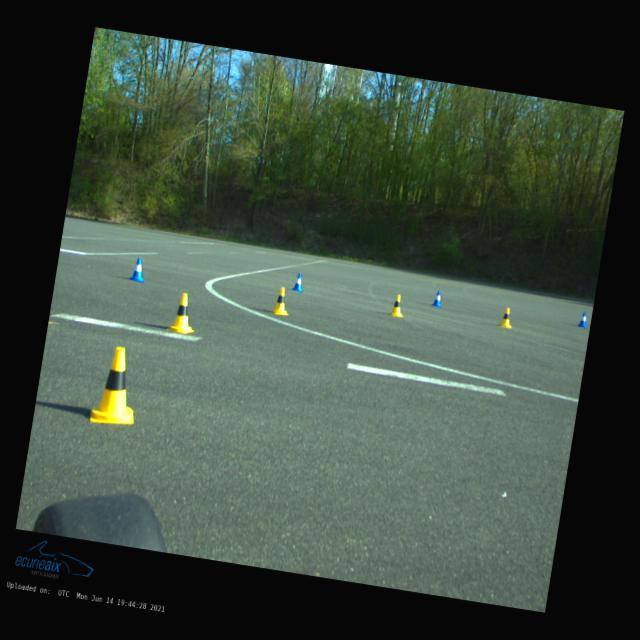blue_cone: (128, 257, 148, 283), (292, 273, 306, 293), (432, 290, 444, 307), (578, 312, 590, 328)
yellow_cone: (89, 344, 145, 428), (167, 292, 200, 336), (271, 286, 293, 316), (389, 294, 406, 318), (498, 306, 514, 328)
